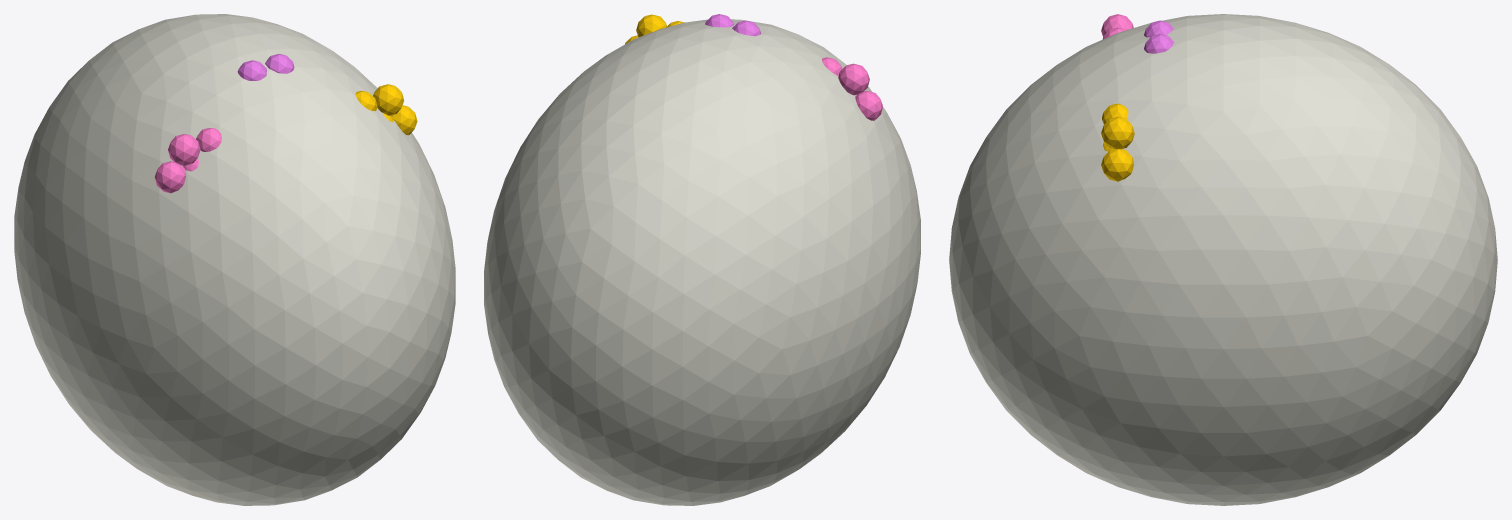
Rendered from calavera_dia_muertos.glb.
3 views of the same model, side by side, from view 1: azimuth 30°, elevation 25°; view 2: azimuth 150°, elevation 25°; view 3: azimuth 270°, elevation 25° (orthographic). The views are drawn at different scales.
Parts seen in each view (by area): view 1: world; view 2: world; view 3: world.
Part boxes in pixels (left/top/right/bottom): world: left=14, top=14, right=455, bottom=505; world: left=484, top=14, right=920, bottom=505; world: left=949, top=14, right=1497, bottom=505.
Size of the model in its own units: 2 by 2.41 by 2.6.
